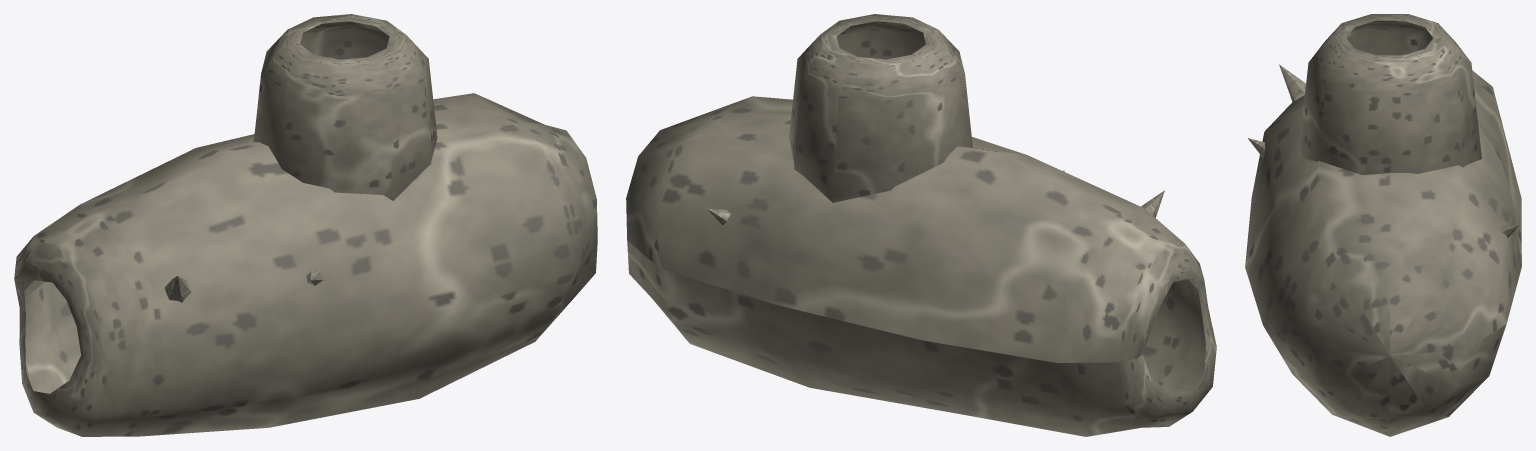
The model's file is stonekazoo.obj.
3 views of the same model, side by side, from view 1: azimuth 30°, elevation 25°; view 2: azimuth 150°, elevation 25°; view 3: azimuth 270°, elevation 25° (orthographic). The views are drawn at different scales.
Visible parts, largest first — view 1: stonekazoo_0_surface; view 2: stonekazoo_0_surface; view 3: stonekazoo_0_surface.
Part boxes in pixels (<box>): stonekazoo_0_surface: <box>14,14,597,436</box>; stonekazoo_0_surface: <box>626,14,1216,436</box>; stonekazoo_0_surface: <box>1245,14,1521,436</box>.
Size of the model in its own units: 0.2185 by 0.139 by 0.1019.
Materials: 1 (1 with a texture image).
